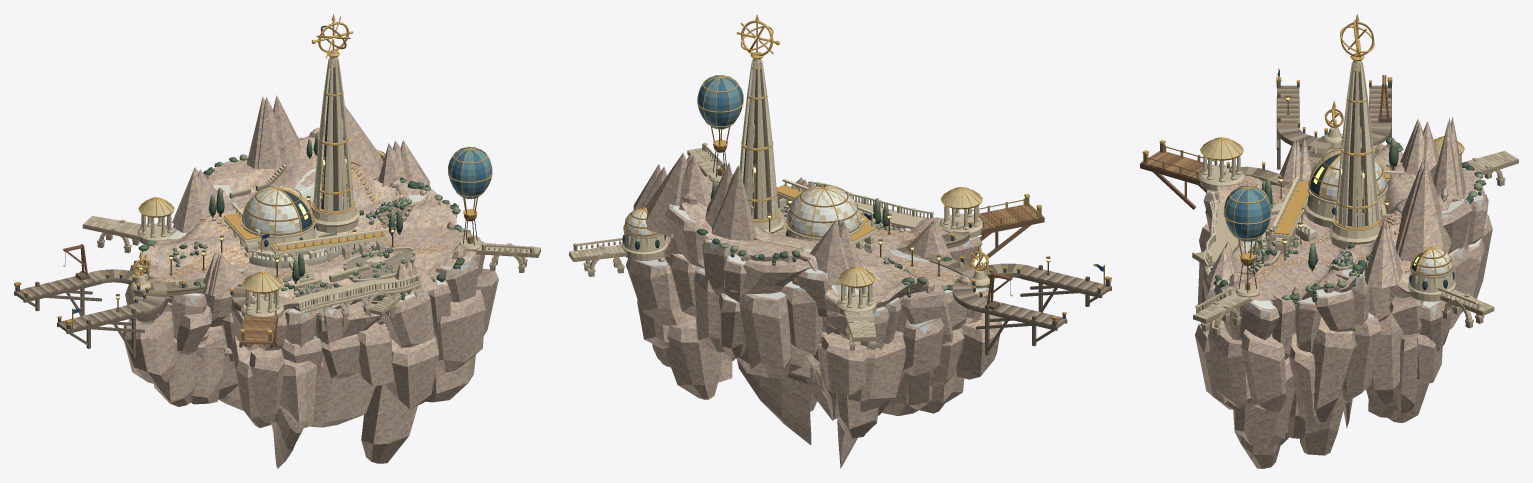
Rendered from flight-town-meridian.glb.
3 renders of one model, left to right at view 1: azimuth 30°, elevation 25°; view 2: azimuth 150°, elevation 25°; view 3: azimuth 270°, elevation 25°, orthographic. The views are drawn at different scales.
Parts seen in each view (by area): view 1: Fractured bedrock and hanging outcrops, Continuous hillside terraces, Outcrop spurs and stratified talus, Quays and working piers, Stonework, arcade and retaining walls, Ivory meridian transit spire, Wind-shaped greenery and crops, Gilded transit observatory, Stepped lanes and inlaid courts, Silk survey balloon and suspended gondola, Arcades of the transit plinth, Sounding yard canopy (+4 smaller); view 2: Fractured bedrock and hanging outcrops, Quays and working piers, Outcrop spurs and stratified talus, Ivory meridian transit spire, Continuous hillside terraces, Gilded transit observatory, Wind-shaped greenery and crops, Silk survey balloon and suspended gondola, Stonework, arcade and retaining walls, Authority's chart dome, Sounding yard canopy, Survey exchange canopy (+4 smaller); view 3: Fractured bedrock and hanging outcrops, Outcrop spurs and stratified talus, Quays and working piers, Ivory meridian transit spire, Continuous hillside terraces, Wind-shaped greenery and crops, Stonework, arcade and retaining walls, Silk survey balloon and suspended gondola, Gilded transit observatory, Authority's chart dome, Stepped lanes and inlaid courts, Sounding yard canopy (+3 smaller).
Part boxes in pixels (x1,y1,x2,y2): Fractured bedrock and hanging outcrops: [122, 137, 498, 468]; Continuous hillside terraces: [142, 136, 480, 305]; Outcrop spurs and stratified talus: [143, 95, 465, 355]; Quays and working piers: [14, 215, 540, 357]; Stonework, arcade and retaining walls: [134, 164, 421, 338]; Ivory meridian transit spire: [311, 14, 359, 232]; Wind-shaped greenery and crops: [137, 132, 484, 317]; Gilded transit observatory: [241, 185, 318, 257]; Stepped lanes and inlaid courts: [153, 160, 458, 298]; Silk survey balloon and suspended gondola: [448, 146, 492, 251]; Arcades of the transit plinth: [270, 228, 387, 269]; Sounding yard canopy: [241, 272, 283, 318]; Fractured bedrock and hanging outcrops: [626, 174, 1002, 468]; Quays and working piers: [569, 142, 1111, 355]; Outcrop spurs and stratified talus: [633, 153, 970, 348]; Ivory meridian transit spire: [736, 14, 784, 233]; Continuous hillside terraces: [660, 176, 960, 302]; Gilded transit observatory: [785, 184, 865, 248]; Wind-shaped greenery and crops: [628, 180, 988, 333]; Silk survey balloon and suspended gondola: [697, 75, 743, 182]; Stonework, arcade and retaining walls: [753, 181, 989, 295]; Authority's chart dome: [621, 207, 667, 260]; Sounding yard canopy: [939, 187, 982, 238]; Survey exchange canopy: [837, 266, 876, 315]; Fractured bedrock and hanging outcrops: [1195, 144, 1492, 468]; Outcrop spurs and stratified talus: [1207, 117, 1466, 303]; Quays and working piers: [1140, 75, 1518, 335]; Ivory meridian transit spire: [1329, 14, 1381, 249]; Continuous hillside terraces: [1217, 144, 1480, 300]; Wind-shaped greenery and crops: [1209, 137, 1487, 317]; Stonework, arcade and retaining walls: [1192, 148, 1437, 281]; Silk survey balloon and suspended gondola: [1223, 185, 1271, 297]; Gilded transit observatory: [1304, 149, 1387, 227]; Authority's chart dome: [1408, 246, 1455, 301]; Stepped lanes and inlaid courts: [1235, 149, 1411, 288]; Sounding yard canopy: [1199, 137, 1244, 191].
Bounding box in the file's own units: 50.09 × 46.63 × 34.5.
19 materials, 2 textured.
